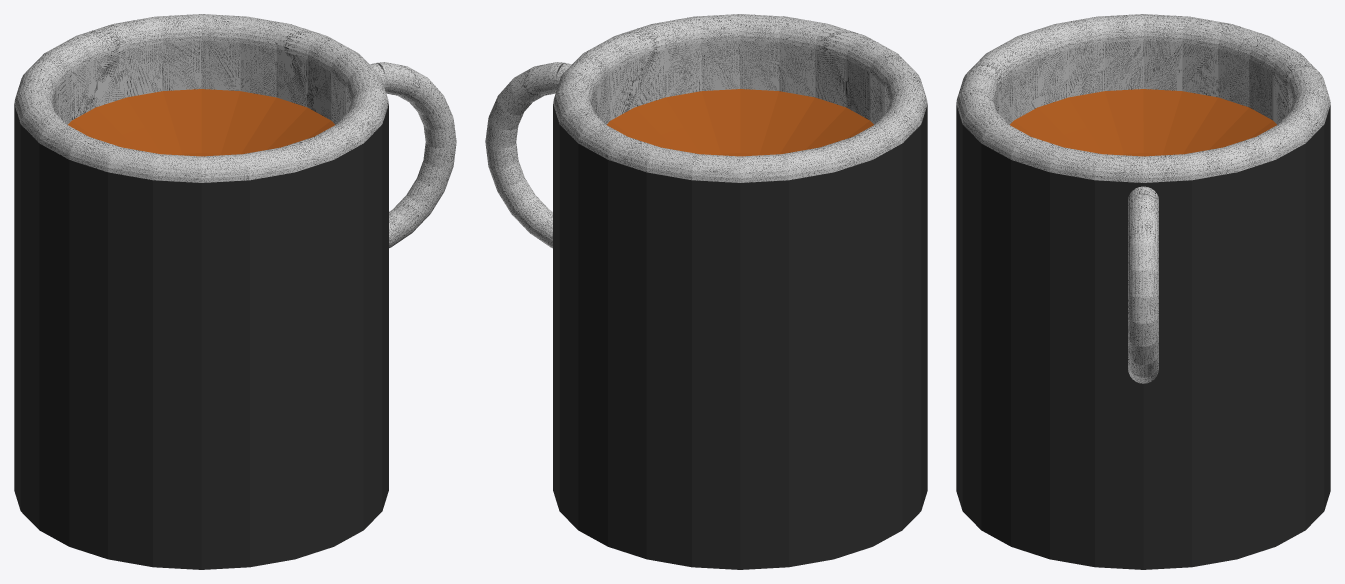
3 renders of one model, left to right at view 1: azimuth 30°, elevation 25°; view 2: azimuth 150°, elevation 25°; view 3: azimuth 270°, elevation 25°, orthographic.
Visible parts, largest first — view 1: mesh1_mesh1-geometry; view 2: mesh1_mesh1-geometry; view 3: mesh1_mesh1-geometry.
Part boxes in pixels (x1,y1,x2,y2): mesh1_mesh1-geometry: [14, 14, 456, 569]; mesh1_mesh1-geometry: [485, 14, 927, 569]; mesh1_mesh1-geometry: [956, 14, 1330, 569].
Size of the model in its own units: 0.6357 by 0.591 by 0.4966.
